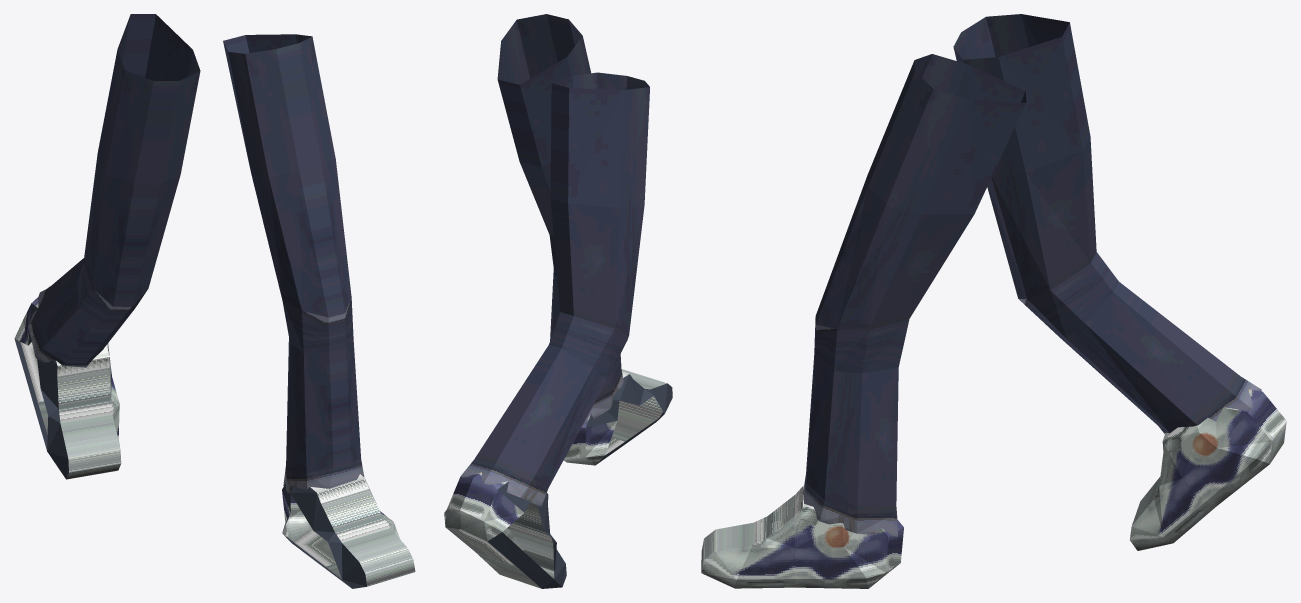
File: legs.obj
3 renders of one model, left to right at view 1: azimuth 30°, elevation 25°; view 2: azimuth 150°, elevation 25°; view 3: azimuth 270°, elevation 25°, orthographic. The views are drawn at different scales.
Visible parts, largest first — view 1: pants, shoes, shoes_4, Regroup07, shoes_2, shoes_5, shoes_3; view 2: pants, Regroup07, shoes, shoes_2, shoes_3, shoes_4; view 3: pants, shoes, shoes_2, shoes_5, shoes_4, shoes_3.
Part boxes in pixels (bbox=[...]): pants: bbox=[28, 14, 364, 493]; shoes: bbox=[38, 401, 415, 586]; shoes_4: bbox=[57, 368, 393, 542]; Regroup07: bbox=[14, 303, 366, 588]; shoes_2: bbox=[14, 304, 335, 566]; shoes_5: bbox=[56, 343, 376, 503]; shoes_3: bbox=[286, 494, 312, 541]; pants: bbox=[460, 14, 649, 506]; Regroup07: bbox=[488, 374, 672, 588]; shoes: bbox=[475, 369, 666, 588]; shoes_2: bbox=[444, 421, 624, 566]; shoes_3: bbox=[445, 427, 594, 540]; shoes_4: bbox=[507, 387, 648, 543]; pants: bbox=[803, 14, 1261, 536]; shoes: bbox=[701, 477, 1216, 588]; shoes_2: bbox=[795, 412, 1271, 588]; shoes_5: bbox=[794, 407, 1247, 547]; shoes_4: bbox=[753, 453, 1181, 547]; shoes_3: bbox=[870, 392, 1286, 587].
Size of the model in its own units: 0.5319 by 1.41 by 1.44.
7 materials, 7 textured.
